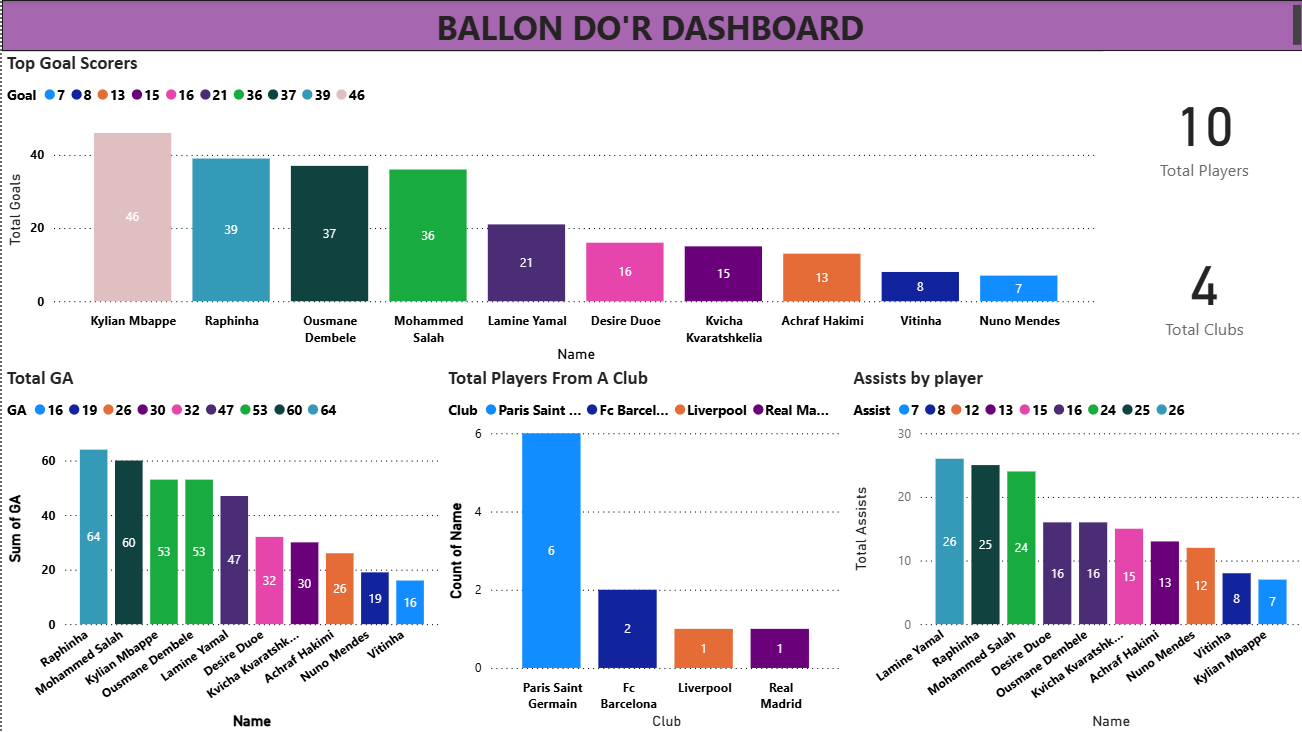

This screenshot's page, from the dashboard's own definition file:
{"tool":"powerbi","page":{"name":"Page 1","canvas":[1280,720],"ordinal":0},"visuals":[{"type":"columnChart","title":"Goals Scored By Players","fields":{"Category":["Ballon_dor_2025.Name"],"Y":["Sum(Ballon_dor_2025.Goal)"],"Series":["Ballon_dor_2025.Goal"]},"box":[0,0,649.1,370.6],"z":0},{"type":"columnChart","title":"Assists by player","fields":{"Category":["Ballon_dor_2025.Name"],"Y":["Sum(Ballon_dor_2025.Assist)"],"Series":["Ballon_dor_2025.Assist"]},"box":[648.6,0,631.4,370.6],"z":1000},{"type":"columnChart","title":"Total GA","fields":{"Y":["Sum(Ballon_dor_2025.GA)"],"Category":["Ballon_dor_2025.Name"],"Series":["Ballon_dor_2025.GA"]},"box":[0,370.6,648.6,349.2],"z":1001},{"type":"columnChart","title":"Total Players From A Club","fields":{"Y":["CountNonNull(Ballon_dor_2025.Name)"],"Category":["Ballon_dor_2025.Club"]},"box":[648.6,370.6,631.4,349.2],"z":1002}]}

Visuals, with their boxes in screenshot pixels (x1, y1, x2, y2), scaled from the page's 1280x720 canvas onto the 1302x732 screenshot:
"Goals Scored By Players" columnChart: bbox(0, 0, 660, 377)
"Assists by player" columnChart: bbox(660, 0, 1301, 377)
"Total GA" columnChart: bbox(0, 377, 660, 731)
"Total Players From A Club" columnChart: bbox(660, 377, 1301, 731)
